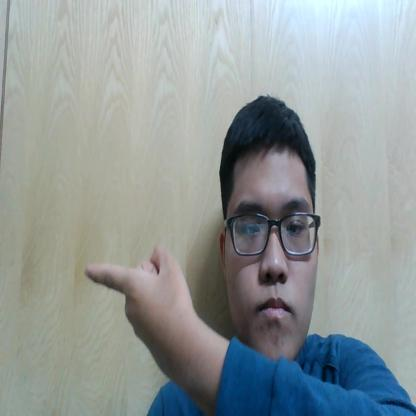right: (76, 232, 209, 398)
